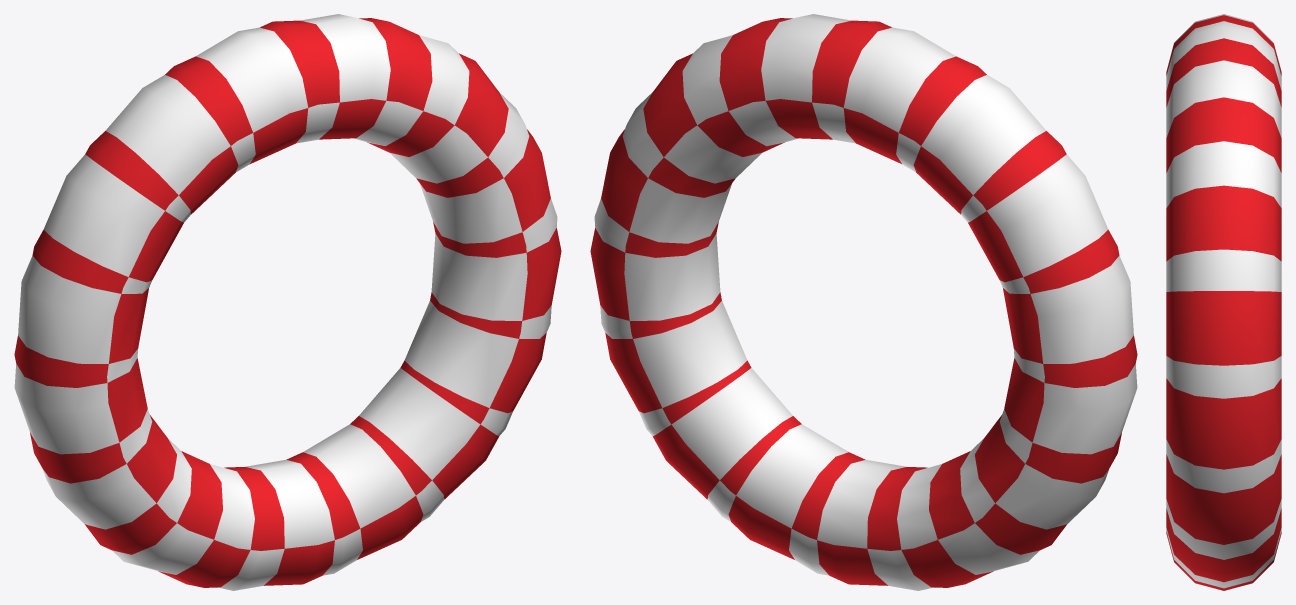
Rendered from Lifebuoy.glb.
3 renders of one model, left to right at view 1: azimuth 30°, elevation 25°; view 2: azimuth 150°, elevation 25°; view 3: azimuth 270°, elevation 25°, orthographic. The views are drawn at different scales.
Visible parts, largest first — view 1: node_id53, node_id40; view 2: node_id53, node_id40; view 3: node_id40, node_id53.
Boxes of the visible parts, left/top/right/bottom form: node_id53: left=14, top=14, right=557, bottom=590; node_id40: left=14, top=18, right=561, bottom=587; node_id53: left=594, top=14, right=1137, bottom=590; node_id40: left=590, top=18, right=1137, bottom=587; node_id40: left=1166, top=15, right=1281, bottom=590; node_id53: left=1166, top=14, right=1281, bottom=588.
Size of the model in its own units: 0.512 by 0.512 by 0.1024.
2 materials, 2 textured.
